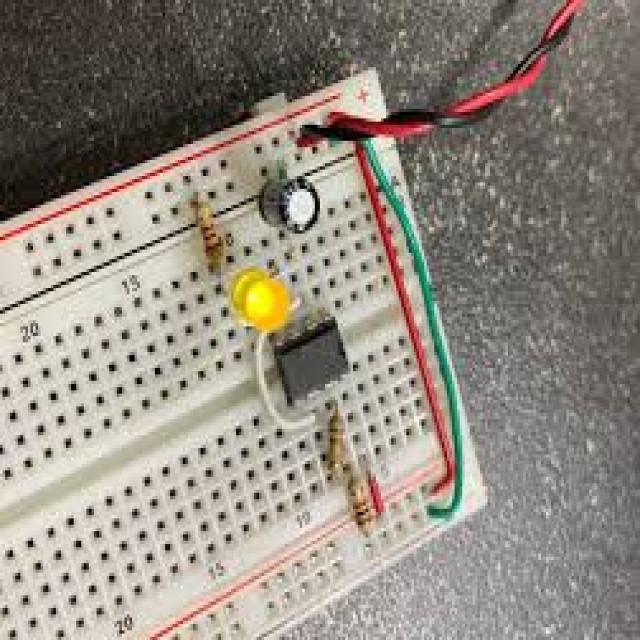capacitor: (194, 199, 227, 271), (348, 477, 373, 538), (327, 408, 345, 478)
